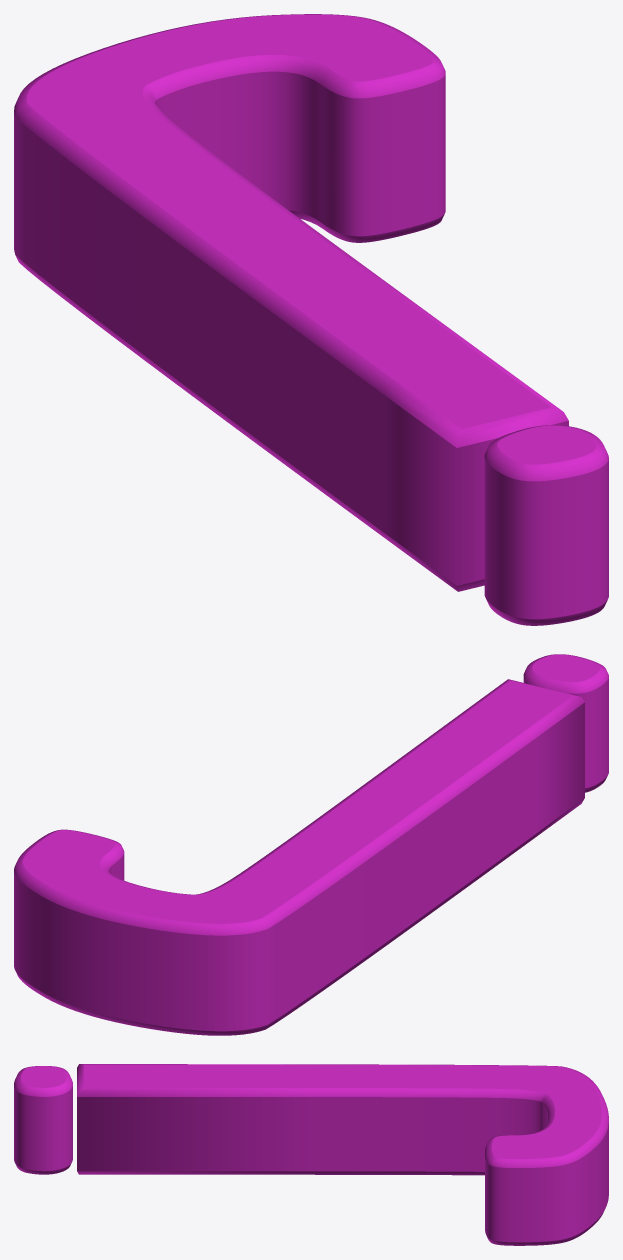
The model's file is Letter_j_CoolFont.fbx.
3 views of the same model, one above another, from view 1: azimuth 30°, elevation 25°; view 2: azimuth 150°, elevation 25°; view 3: azimuth 270°, elevation 25° (orthographic). The views are drawn at different scales.
Parts seen in each view (by area): view 1: Letter_j; view 2: Letter_j; view 3: Letter_j.
Part boxes in pixels (left/top/right/bottom): Letter_j: left=14, top=14, right=608, bottom=625; Letter_j: left=14, top=654, right=608, bottom=1035; Letter_j: left=14, top=1064, right=608, bottom=1245.
Size of the model in its own units: 0.3485 by 0.14 by 0.8721.
